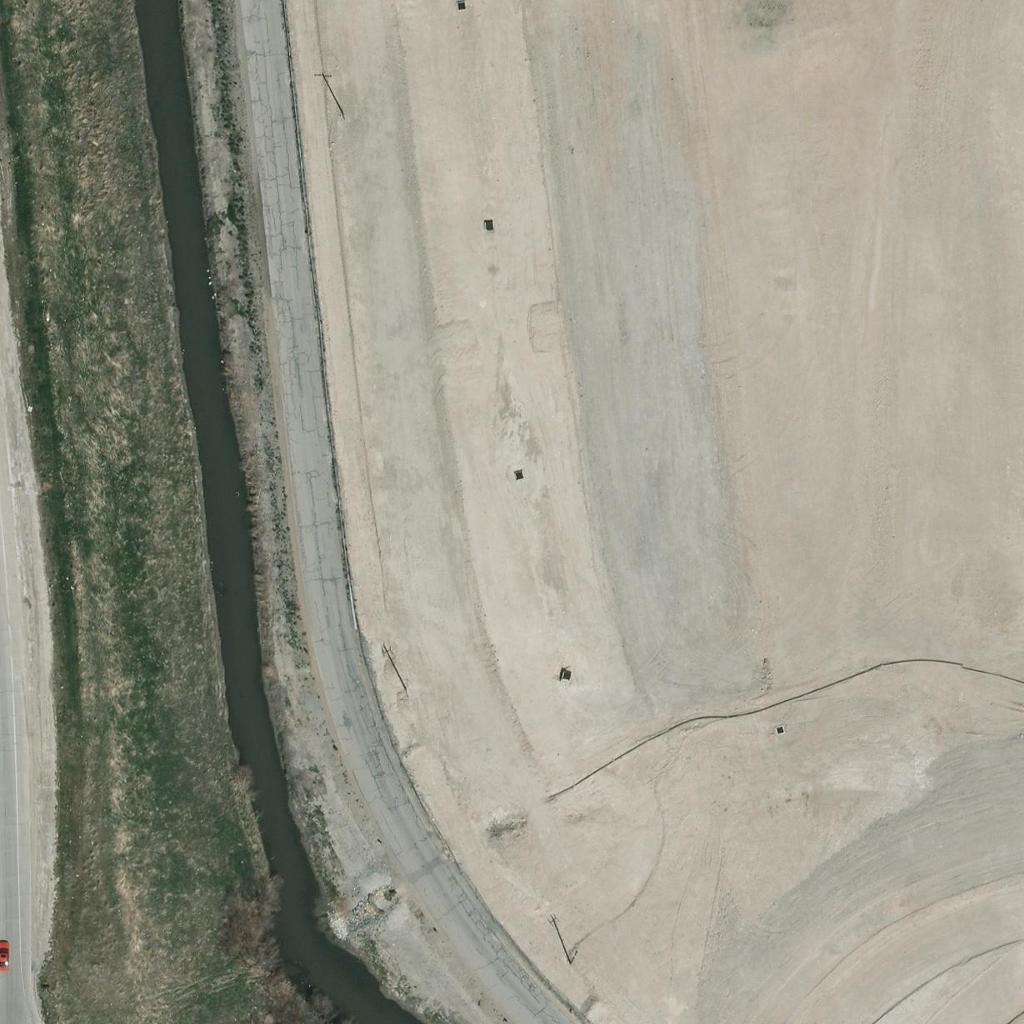car: (0, 939, 19, 973)
